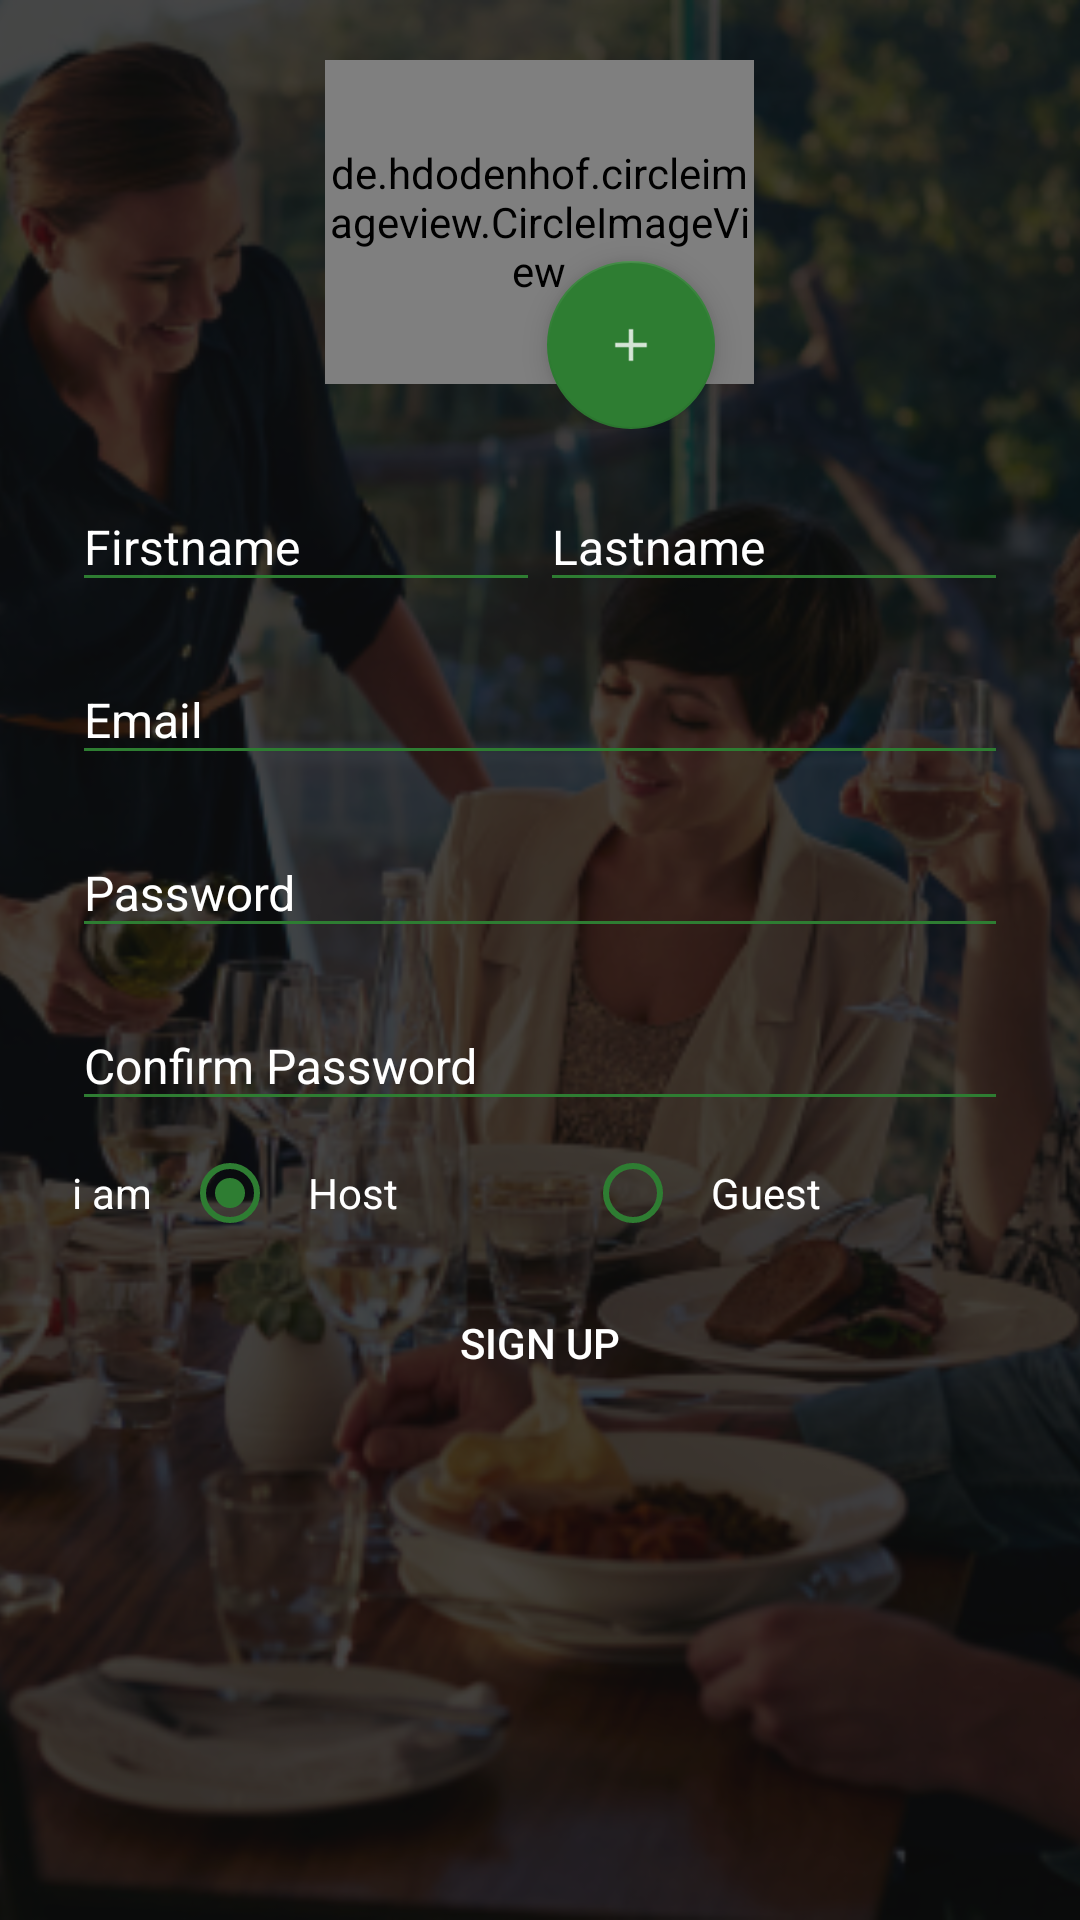

Point at icon controls on the screen. Image size 1080 x 1920, points as [x,y].
plus: [631,345]
